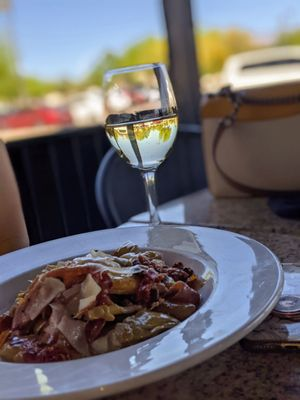pizza: (199, 45, 300, 219)
